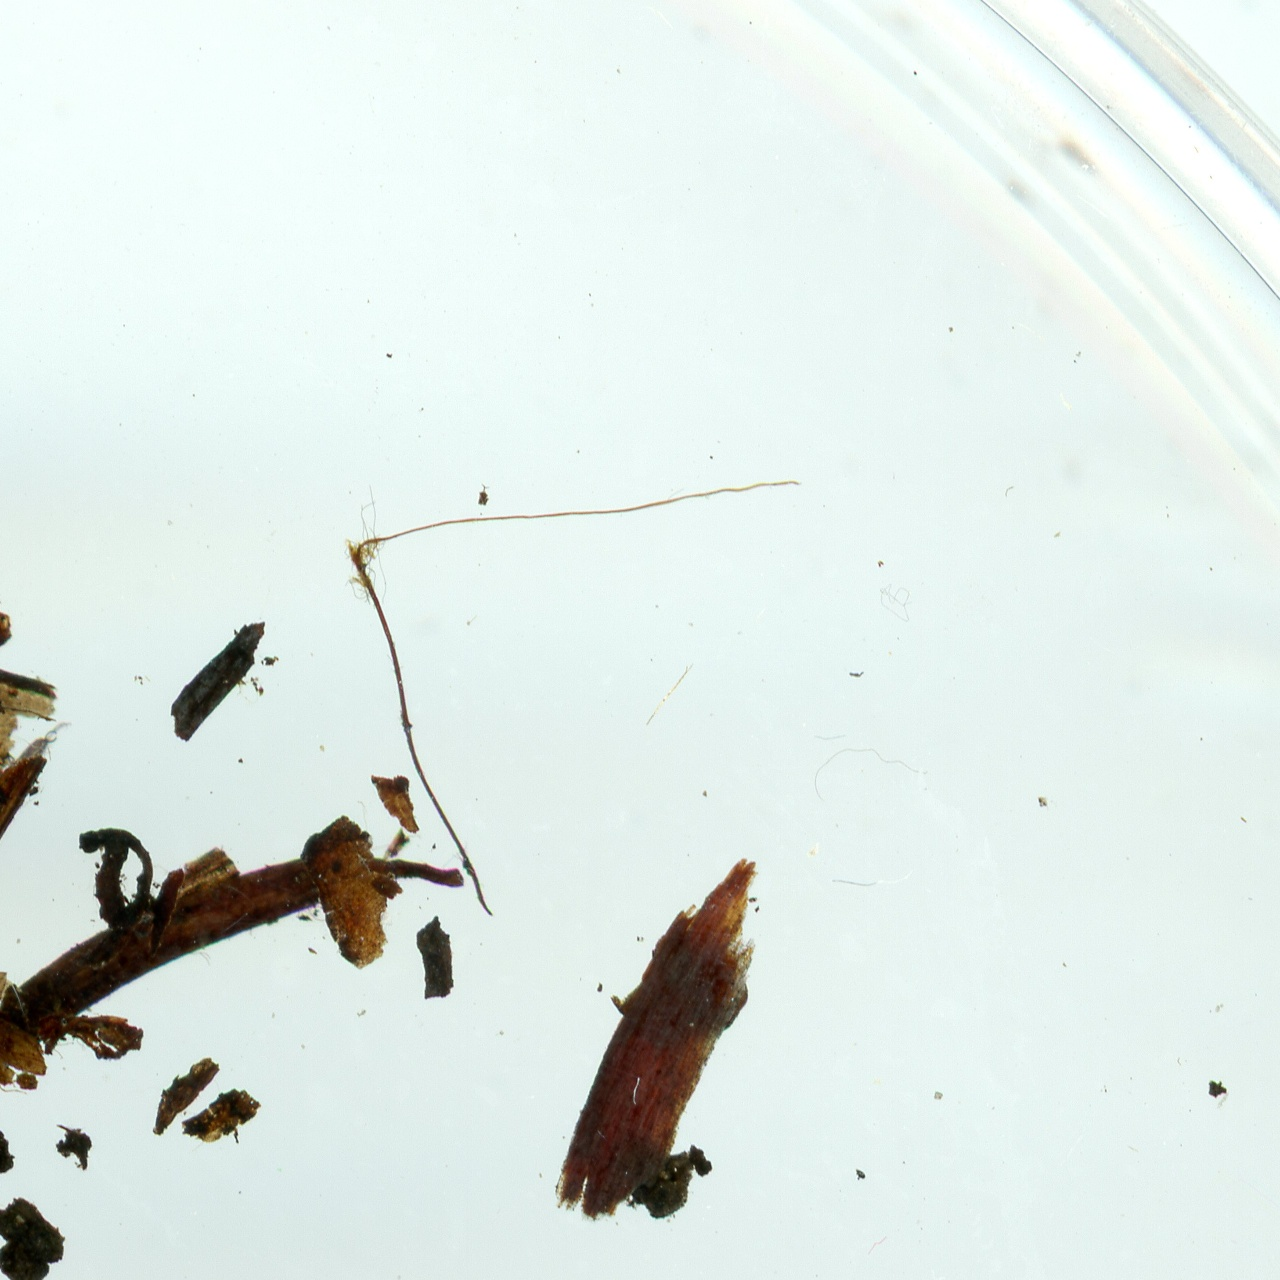arthropod: (13, 704, 80, 778)
